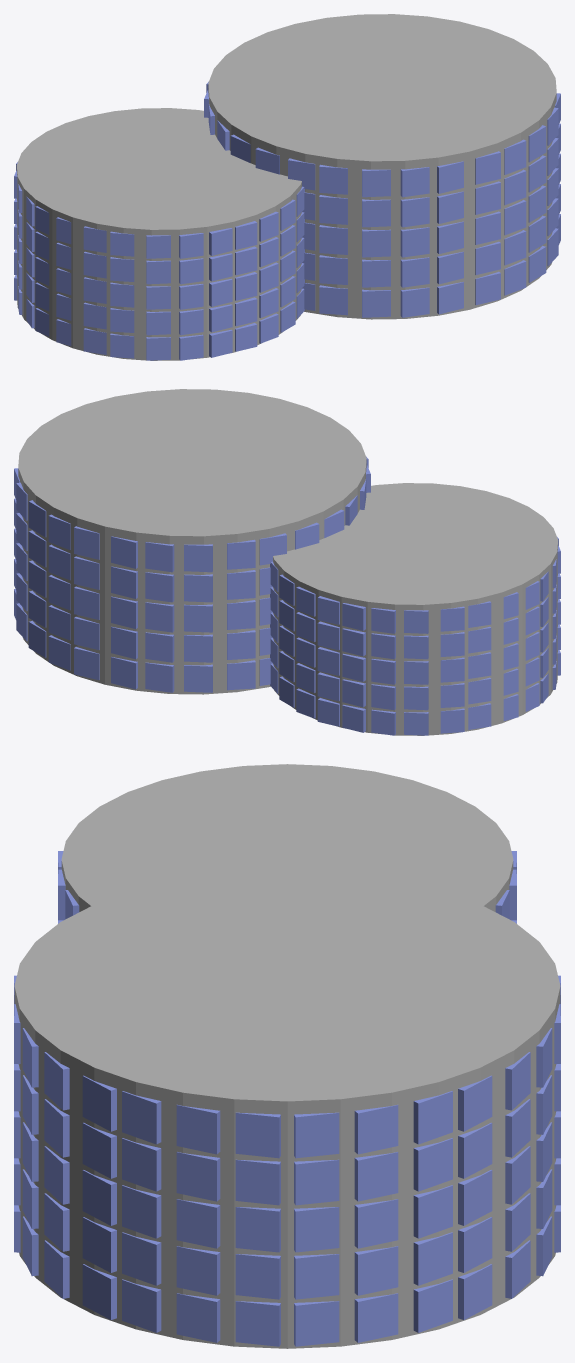
Rendered from library.fbx.
3 views of the same model, one above another, from view 1: azimuth 30°, elevation 25°; view 2: azimuth 150°, elevation 25°; view 3: azimuth 270°, elevation 25° (orthographic). The views are drawn at different scales.
Visible parts, largest first — view 1: Cylinder.001, Cube.006; view 2: Cylinder.001, Cube.006; view 3: Cylinder.001, Cube.006.
Boxes of the visible parts, left/top/right/bottom form: Cylinder.001: left=16, top=14, right=556, bottom=360; Cube.006: left=14, top=81, right=560, bottom=360; Cylinder.001: left=18, top=389, right=558, bottom=735; Cube.006: left=14, top=456, right=560, bottom=735; Cylinder.001: left=14, top=764, right=560, bottom=1348; Cube.006: left=14, top=851, right=560, bottom=1346.
Bounding box in the file's own units: 201 × 60.39 × 121.
